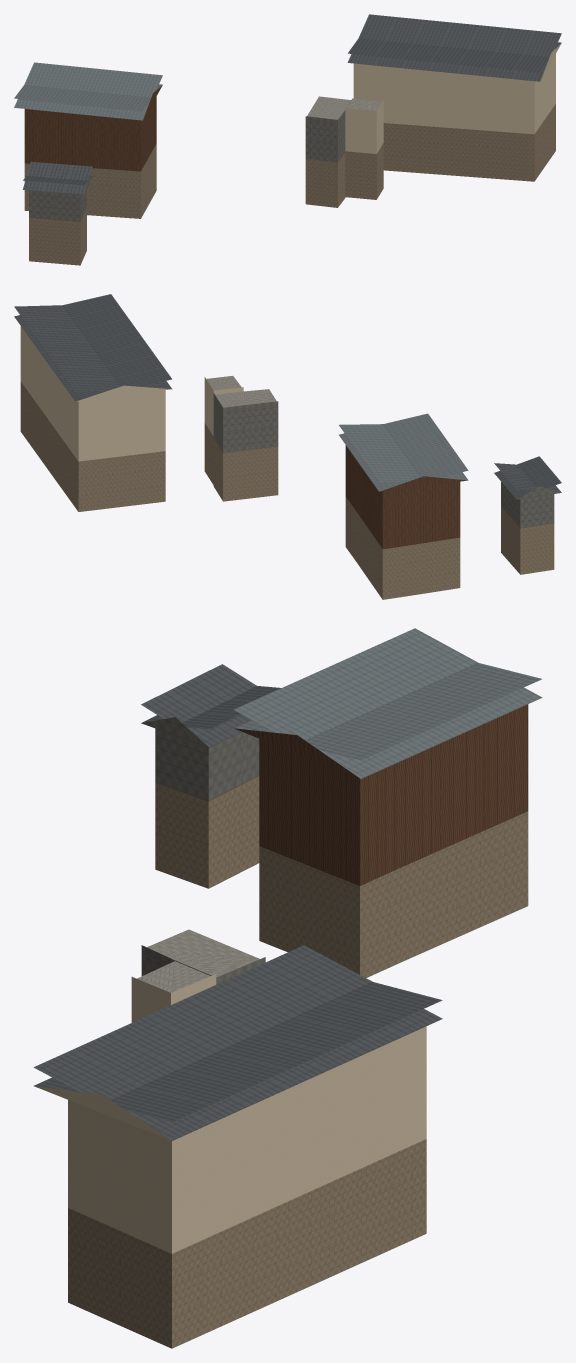
Rendered from bld_c40_34_291.gltf.
3 views of the same model, one above another, from view 1: azimuth 30°, elevation 25°; view 2: azimuth 150°, elevation 25°; view 3: azimuth 270°, elevation 25° (orthographic). The views are drawn at different scales.
Parts seen in each view (by area): view 1: bld_c40_34_291; view 2: bld_c40_34_291; view 3: bld_c40_34_291.
Boxes of the visible parts, x1,y1,x2,y2 form: bld_c40_34_291: (14,14,561,265); bld_c40_34_291: (14,294,561,599); bld_c40_34_291: (33,628,542,1348).
Size of the model in its own units: 59.3 by 13.5 by 24.83.
10 materials, 10 textured.
